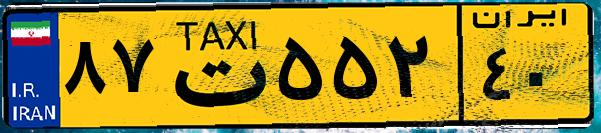0: (525, 38, 570, 115)
2: (385, 28, 445, 110)
4: (475, 38, 525, 113)
5: (270, 28, 330, 110), (330, 28, 385, 110)
7: (110, 28, 158, 98)
8: (57, 26, 110, 100)
ت: (158, 12, 270, 120)
